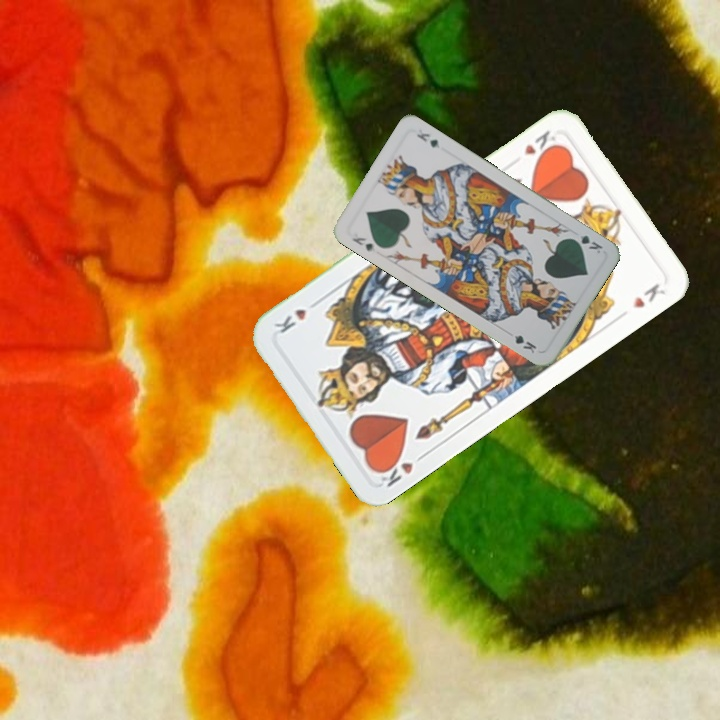GK: (567, 231, 605, 256), (348, 233, 379, 254)
HK: (373, 448, 430, 490), (519, 126, 561, 163)
